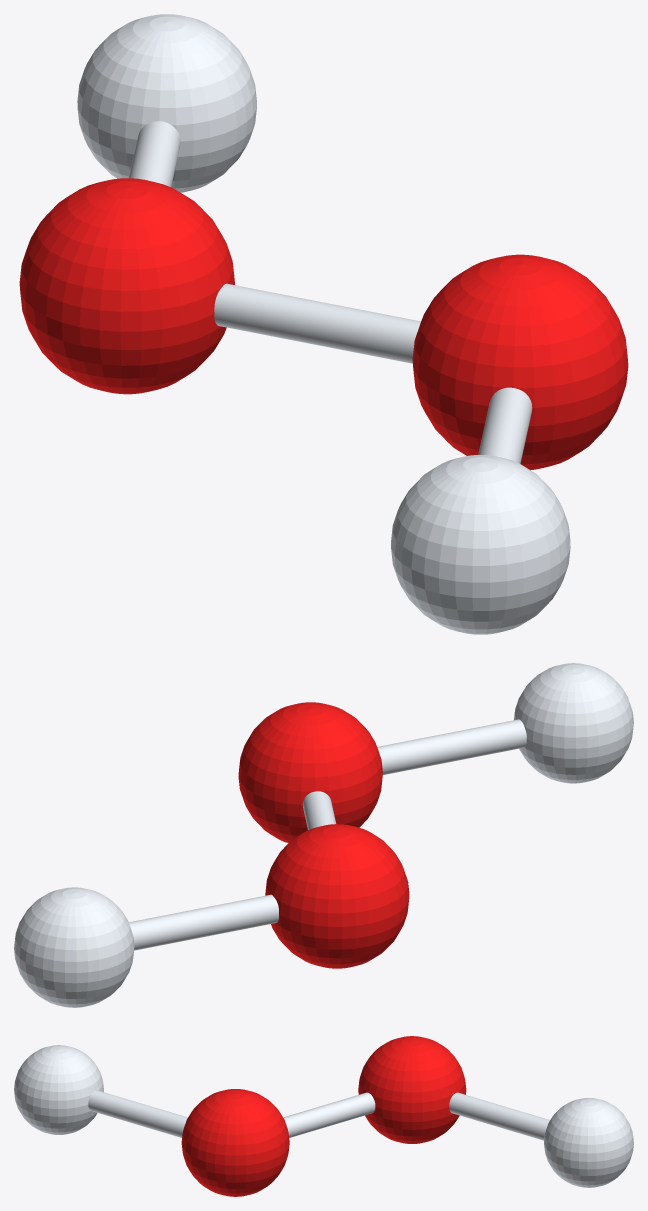
File: hydrogen_peroxide.fbx
3 renders of one model, top to bottom at view 1: azimuth 30°, elevation 25°; view 2: azimuth 150°, elevation 25°; view 3: azimuth 270°, elevation 25°, orthographic. The views are drawn at different scales.
Parts seen in each view (by area): view 1: hydrogen_peroxide; view 2: hydrogen_peroxide; view 3: hydrogen_peroxide.
Boxes of the visible parts, x1,y1,x2,y2 form: hydrogen_peroxide: [19, 14, 628, 634]; hydrogen_peroxide: [14, 663, 633, 1007]; hydrogen_peroxide: [14, 1036, 633, 1196].
Size of the model in its own units: 77.57 by 36 by 206.
